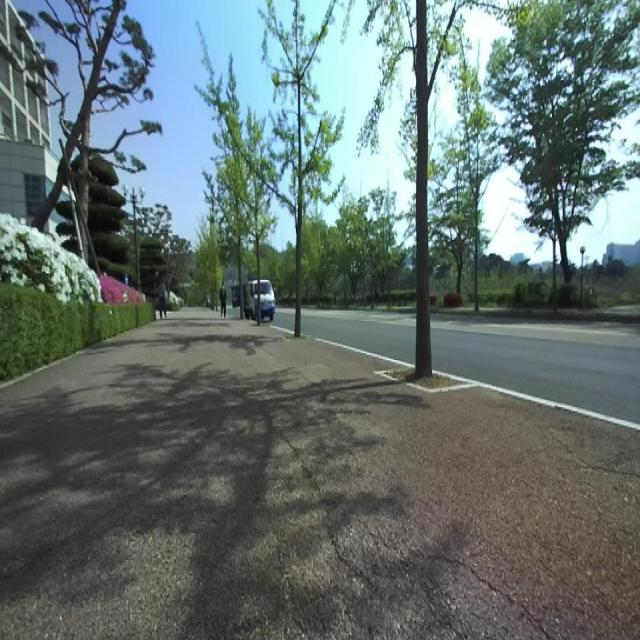sidewalk: (0, 308, 639, 639)
